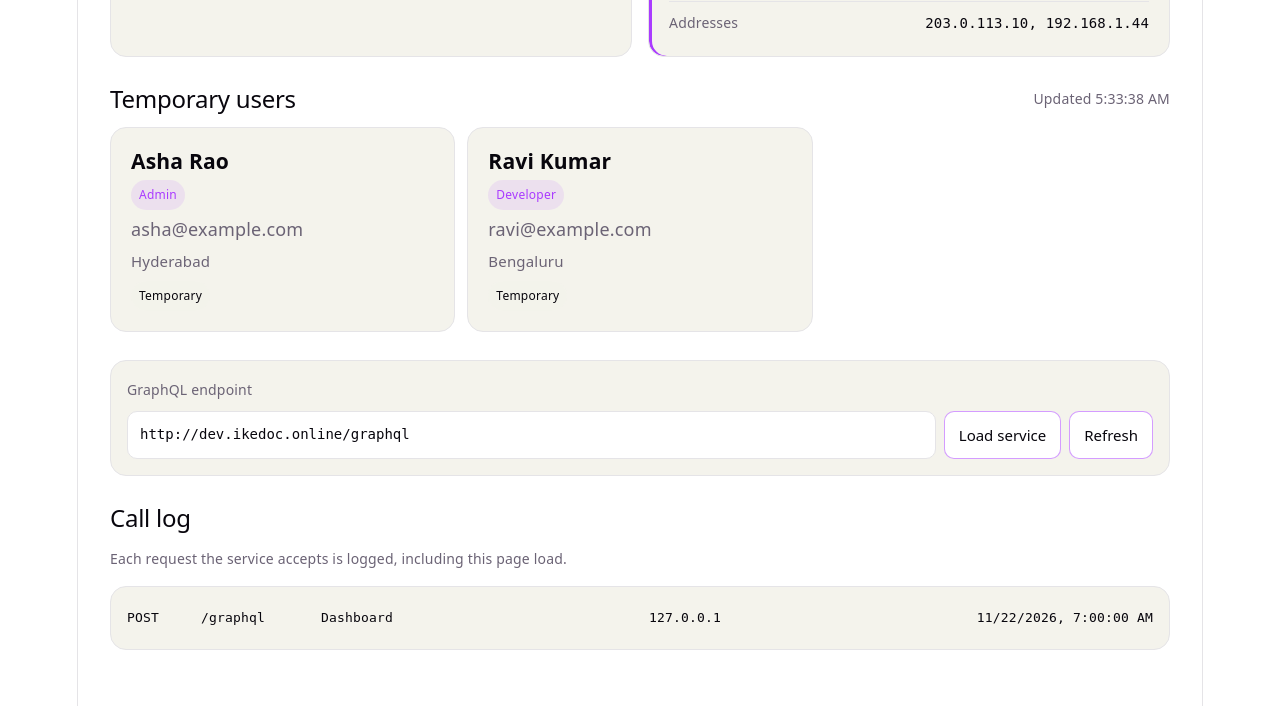
Test case: App › asks for an endpoint when the field is empty
(page scrolled)
Clear the field labelled "GraphQL endpoint" at (531, 435), box 127,411 -> 936,459
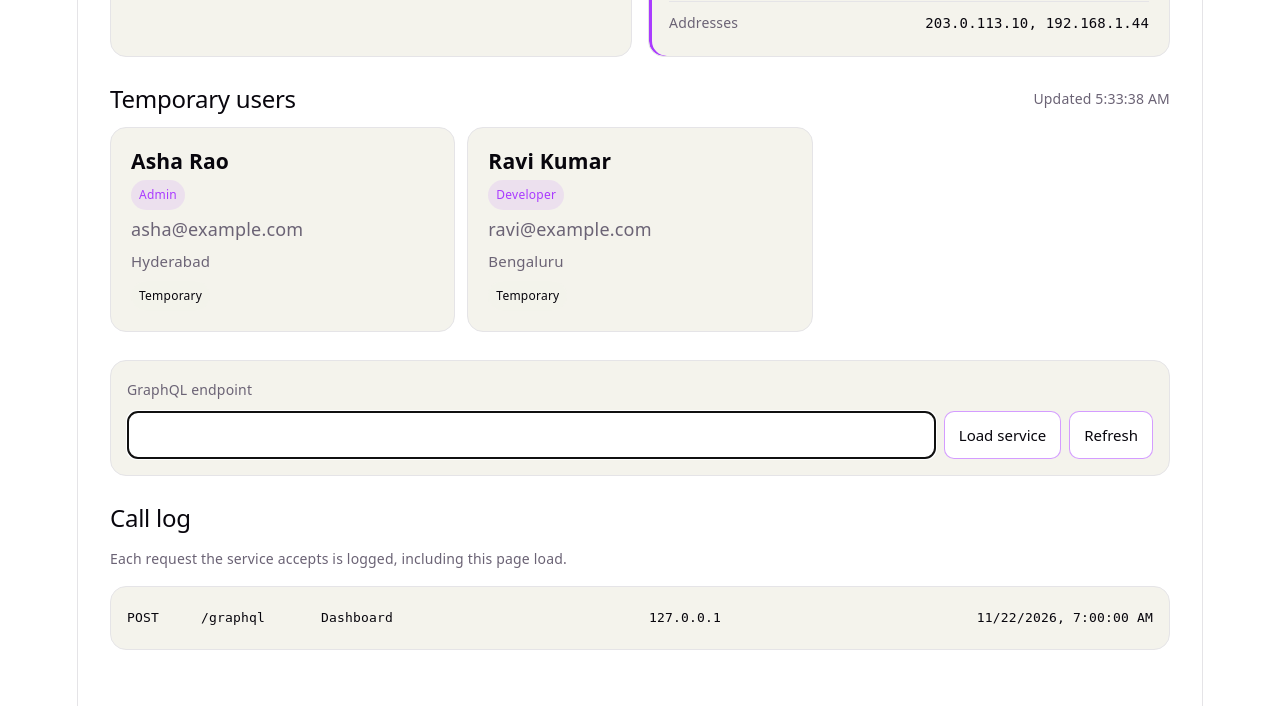
Click the button "Load service" at (1003, 435), box 944,411 -> 1061,459
(page scrolled)
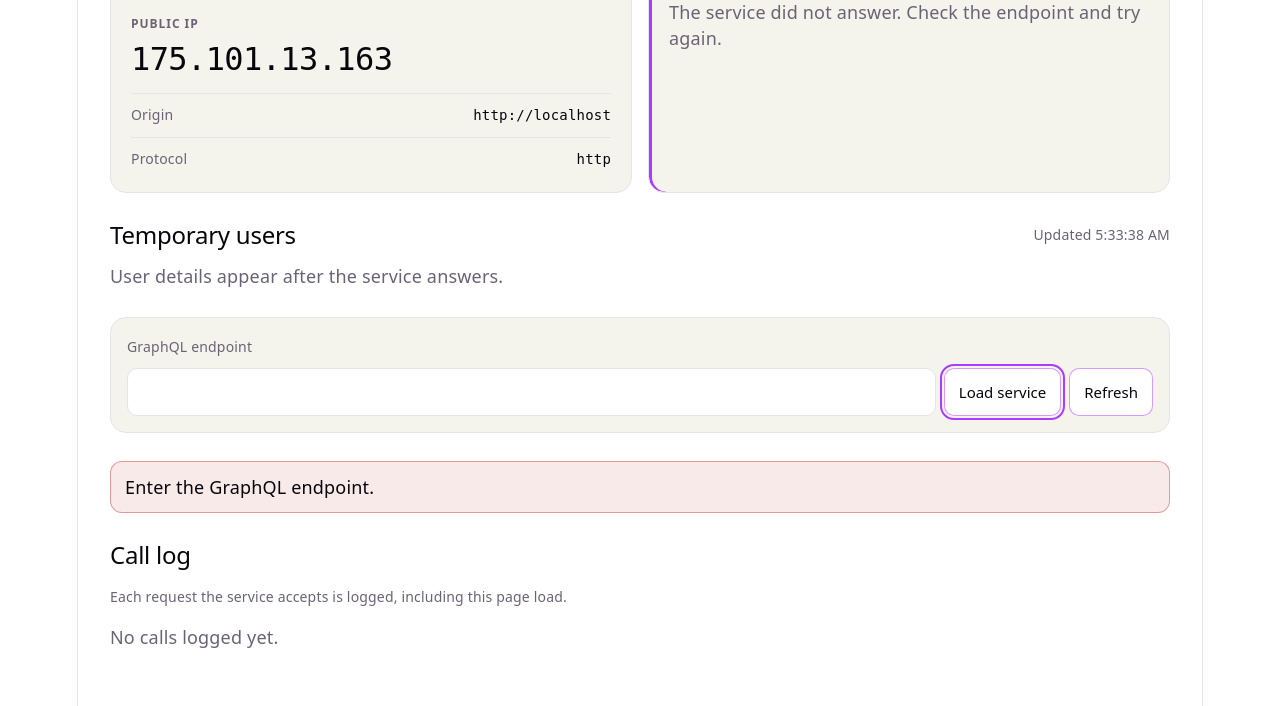
Expected: the message reads "Enter the GraphQL endpoint.", 125,475 -> 374,499
